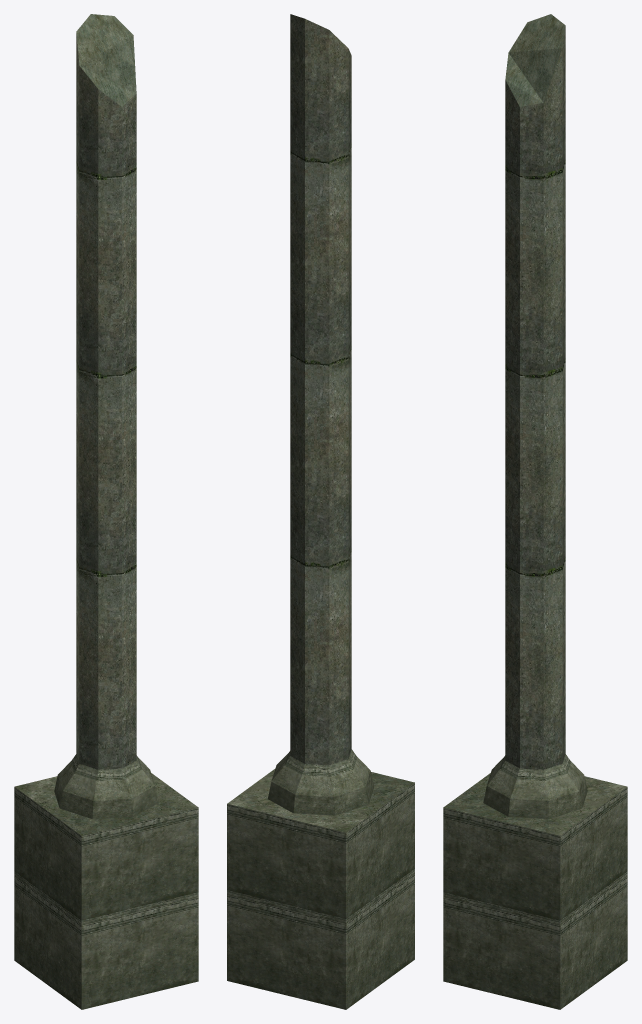
Rendered from thm_dant_jedi_temple_pillar_l1.fbx.
3 views of the same model, side by side, from view 1: azimuth 30°, elevation 25°; view 2: azimuth 150°, elevation 25°; view 3: azimuth 330°, elevation 25° (orthographic).
Visible parts, largest first — view 1: mesh_node; view 2: mesh_node; view 3: mesh_node.
Boxes of the visible parts, bbox=[...] form: mesh_node: bbox=[14, 14, 198, 1009]; mesh_node: bbox=[227, 14, 414, 1009]; mesh_node: bbox=[443, 14, 627, 1009].
Bounding box in the file's own units: 2 × 15.47 × 2.
